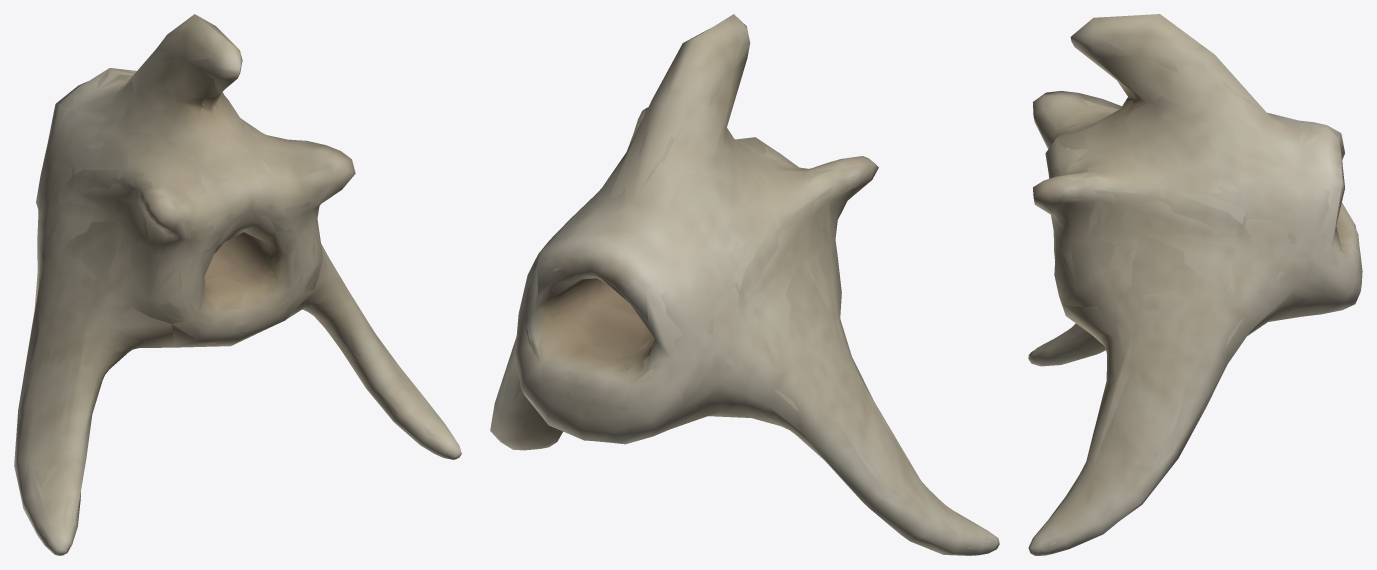
File: vertebrae lumbales 5.fbx
3 views of the same model, side by side, from view 1: azimuth 30°, elevation 25°; view 2: azimuth 150°, elevation 25°; view 3: azimuth 270°, elevation 25° (orthographic). The views are drawn at different scales.
Visible parts, largest first — view 1: vertebrae lumbales 5, vertebrae lumbales 5 low, vertebrae lumbales 5 high; view 2: vertebrae lumbales 5, vertebrae lumbales 5 low, vertebrae lumbales 5 high; view 3: vertebrae lumbales 5, vertebrae lumbales 5 low, vertebrae lumbales 5 high.
Boxes of the visible parts, box(x1,y1,x2,y2) form: vertebrae lumbales 5: box(14, 14, 461, 555); vertebrae lumbales 5 low: box(14, 15, 458, 553); vertebrae lumbales 5 high: box(21, 31, 451, 554); vertebrae lumbales 5: box(490, 14, 999, 555); vertebrae lumbales 5 low: box(491, 14, 992, 555); vertebrae lumbales 5 high: box(514, 29, 997, 550); vertebrae lumbales 5: box(1028, 14, 1362, 555); vertebrae lumbales 5 low: box(1033, 14, 1359, 550); vertebrae lumbales 5 high: box(1031, 23, 1360, 554).
Size of the model in its own units: 2.26 by 2.35 by 1.6.
Materials: 1 (1 with a texture image).
